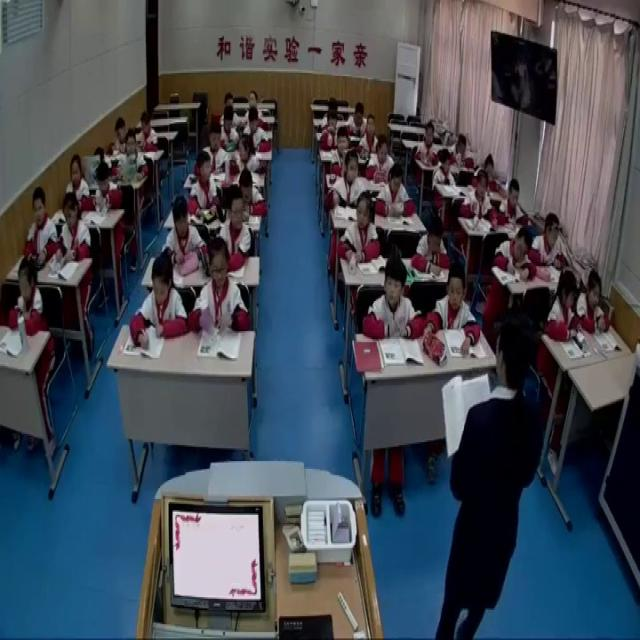distracted: (220, 182, 254, 275), (190, 152, 222, 224), (228, 133, 262, 179)
focused: (190, 235, 252, 338), (130, 253, 186, 349), (424, 267, 483, 352), (364, 258, 418, 337), (338, 188, 380, 270), (544, 269, 585, 353), (6, 257, 44, 343), (164, 194, 205, 270), (531, 214, 577, 278), (54, 189, 91, 263), (24, 183, 58, 261), (375, 164, 418, 223), (411, 216, 451, 278), (455, 168, 495, 230), (494, 227, 536, 284), (331, 144, 366, 208), (577, 271, 609, 331), (91, 161, 124, 215), (364, 134, 398, 184), (232, 172, 268, 218), (64, 151, 91, 208), (202, 120, 230, 174), (122, 130, 149, 179), (498, 177, 525, 224), (242, 108, 268, 156), (326, 130, 353, 174), (418, 119, 441, 170), (362, 116, 384, 164), (431, 146, 454, 191), (479, 145, 500, 191), (140, 110, 160, 155), (219, 105, 237, 148), (453, 130, 470, 164)
